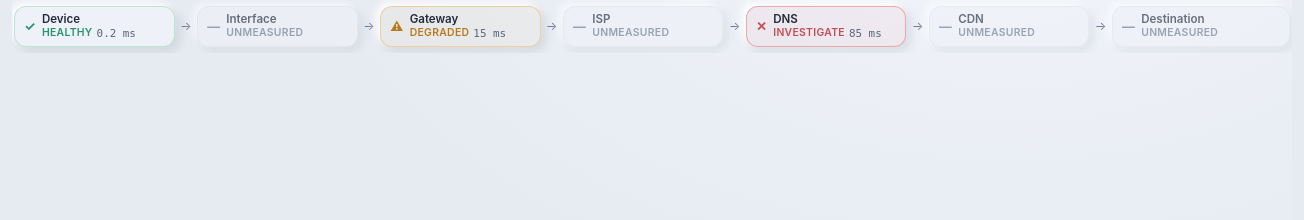
Scenario: DiagnosticChainStrip › displays affected_targets when present in the stage node and clicking chip updates target input
The image size is (1304, 220).
Click the button with aria-label "DNS Resolver" at (826, 26), box [746,6,906,47]
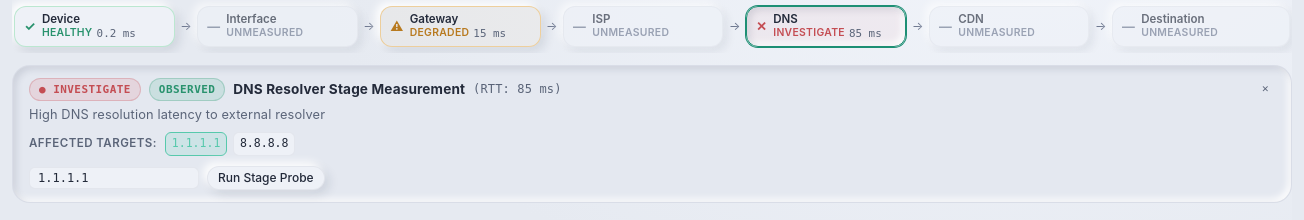
Check: the element with test id "stage-affected-targets" is shown, box [29,132,296,156]
Check: the element with test id "stage-affected-targets" shows "Affected Targets:", box [29,136,157,150]
Check: the button "1.1.1.1" is shown, box [165,132,227,156]
Click the button "8.8.8.8" at (264, 144), box [233,132,295,156]
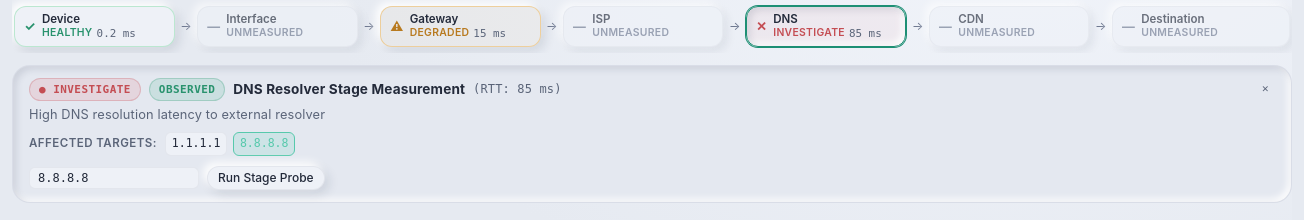
Check: the field with test id "stage-probe-target-input" holds "8.8.8.8", box [29,167,199,189]
